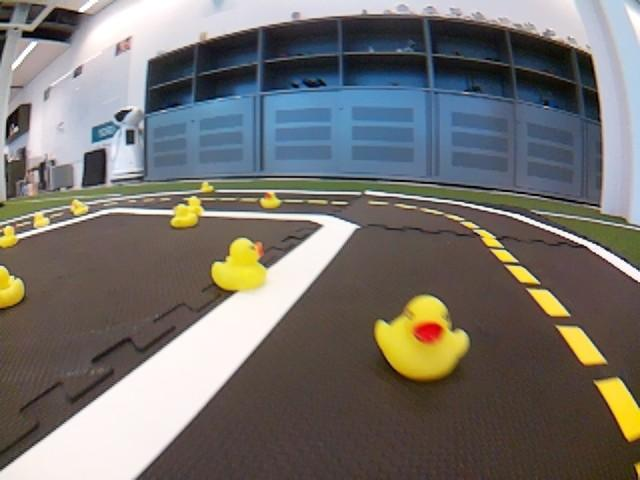Duckies: (372, 296, 470, 383), (210, 237, 268, 291), (0, 265, 25, 312), (169, 204, 199, 229), (180, 196, 205, 215), (259, 191, 282, 208), (1, 226, 19, 247), (33, 214, 49, 227), (72, 202, 89, 213), (200, 182, 213, 193), (70, 200, 84, 209)
